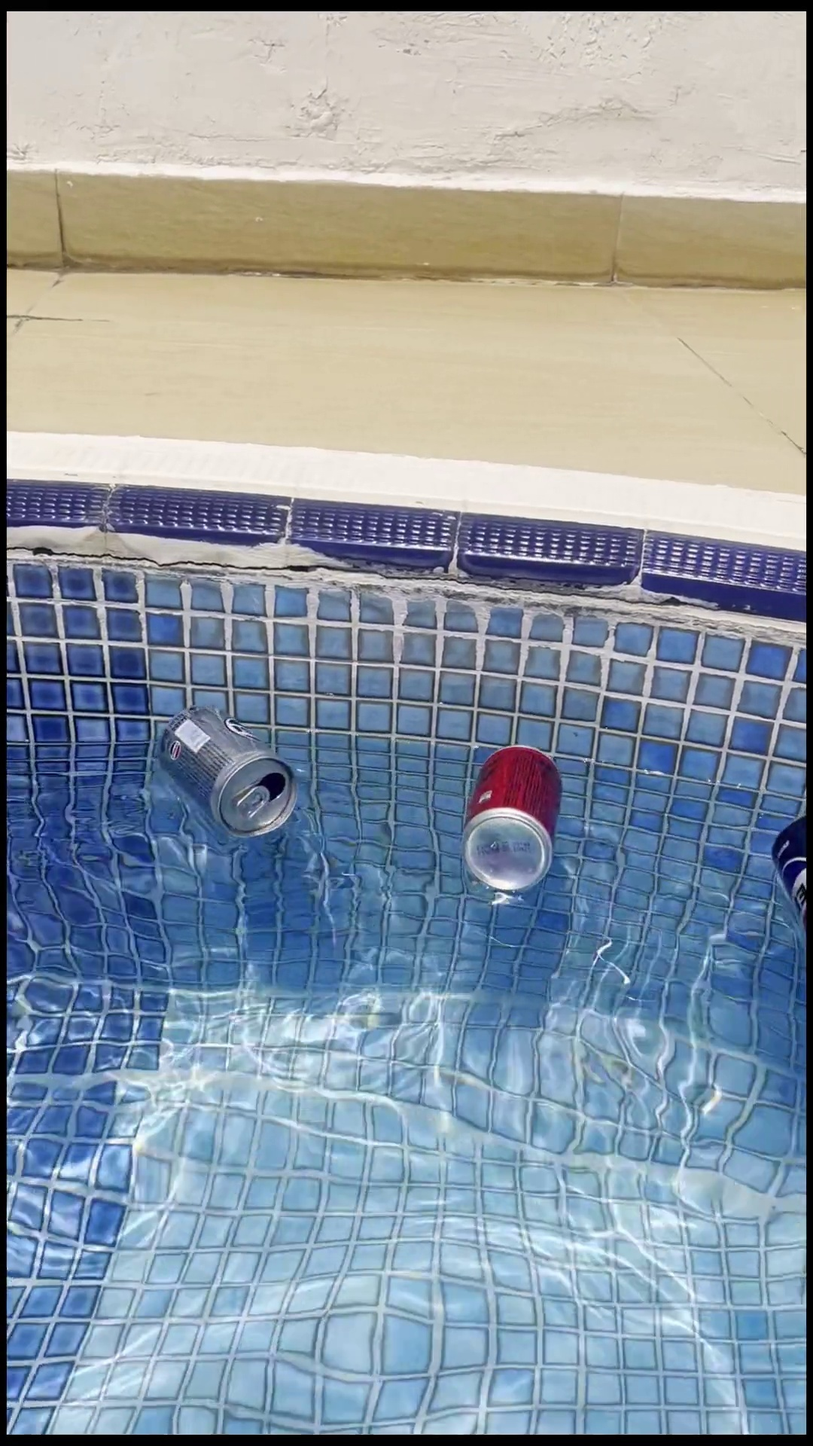debris: (157, 675, 297, 863), (458, 720, 563, 916), (763, 795, 802, 957)
